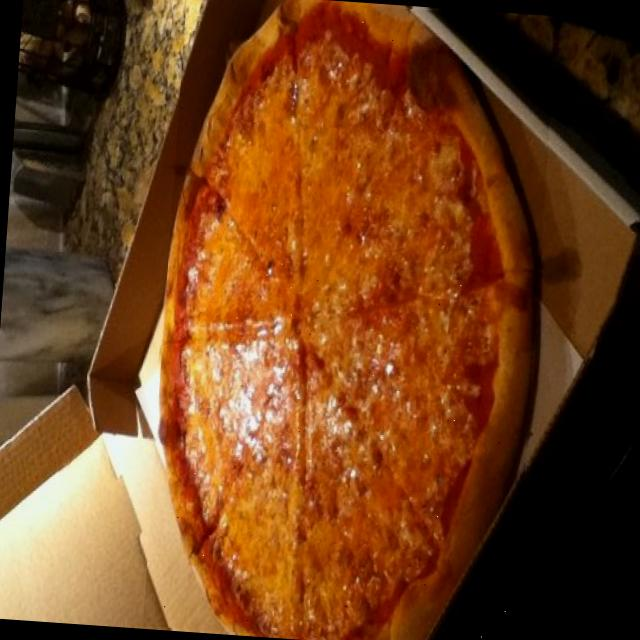cheese: (187, 120, 460, 550)
pizza: (161, 2, 534, 640)
